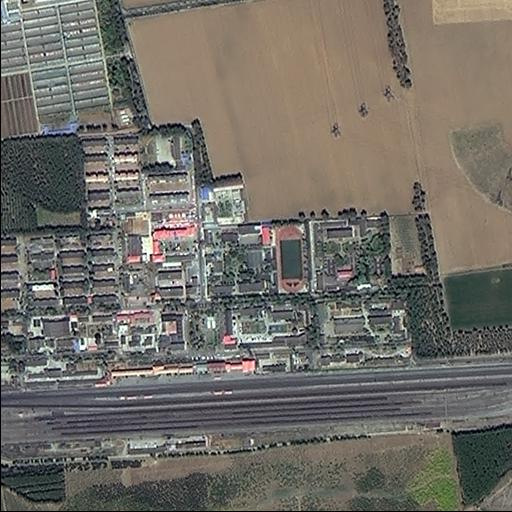school: (196, 219, 315, 299)
